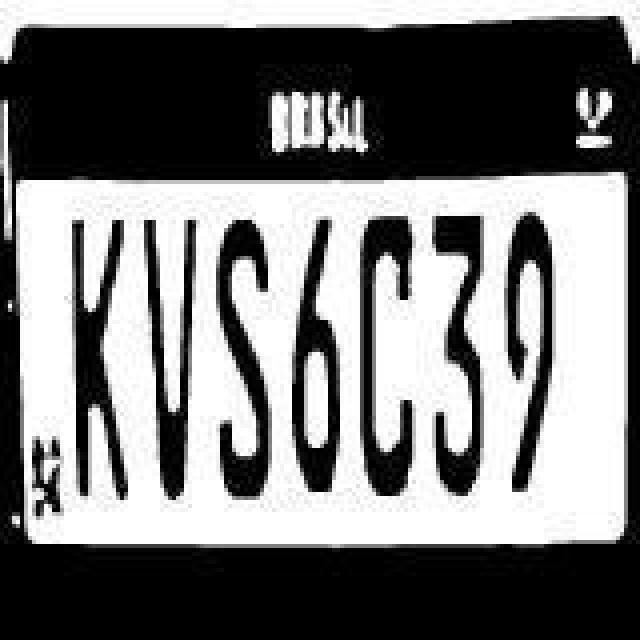3: (424, 204, 488, 500)
6: (282, 212, 342, 492)
9: (498, 208, 558, 496)
C: (352, 210, 416, 502)
K: (66, 210, 134, 502)
S: (214, 216, 282, 504)
V: (138, 218, 206, 502)
